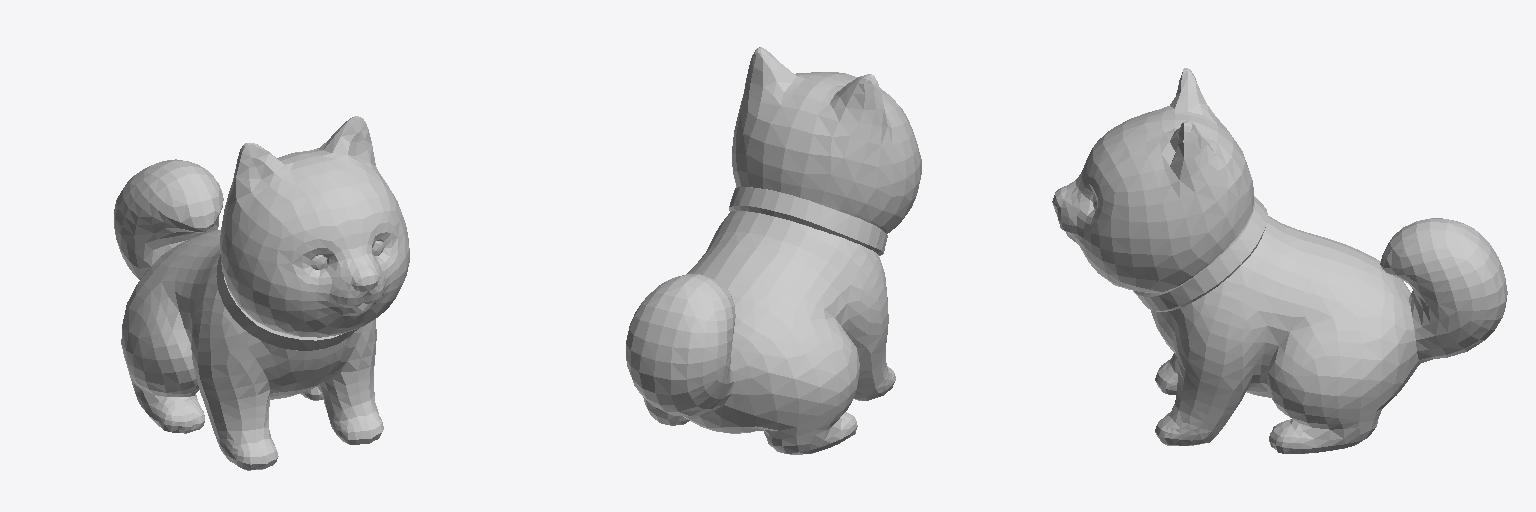
The model's file is shiba.obj.
The picture shows the model from 3 angles: view 1: azimuth 30°, elevation 25°; view 2: azimuth 150°, elevation 25°; view 3: azimuth 270°, elevation 25°; orthographic projection.
Parts seen in each view (by area): view 1: Box002, Group18985; view 2: Box002, Group18985; view 3: Box002, Group18985.
Boxes of the visible parts, x1=… form: Box002: x1=114, y1=116, x2=409, y2=470; Group18985: x1=216, y1=254, x2=358, y2=350; Box002: x1=626, y1=47, x2=921, y2=454; Group18985: x1=729, y1=187, x2=887, y2=255; Box002: x1=1052, y1=68, x2=1507, y2=453; Group18985: x1=1133, y1=196, x2=1267, y2=311.
Size of the model in its own units: 0.0092 by 0.0138 by 0.0177.